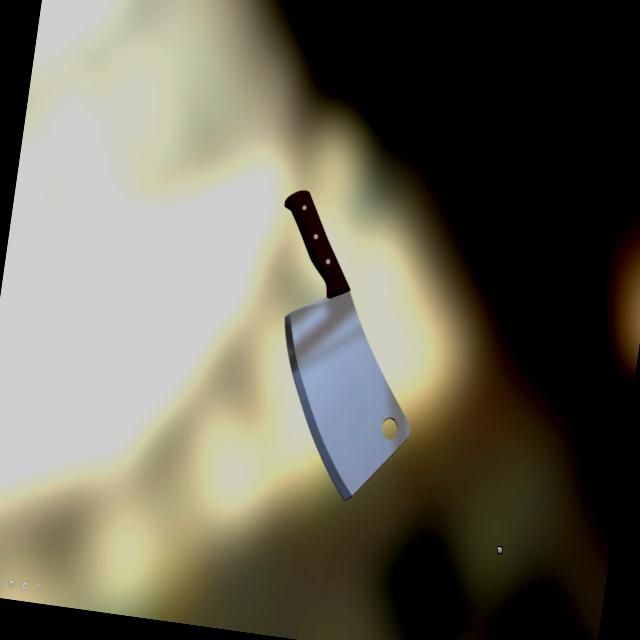cleaver: (242, 185, 440, 510)
